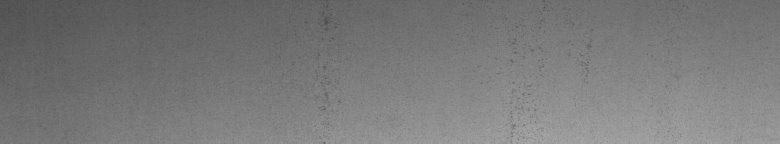ib: (505, 44, 591, 134)
